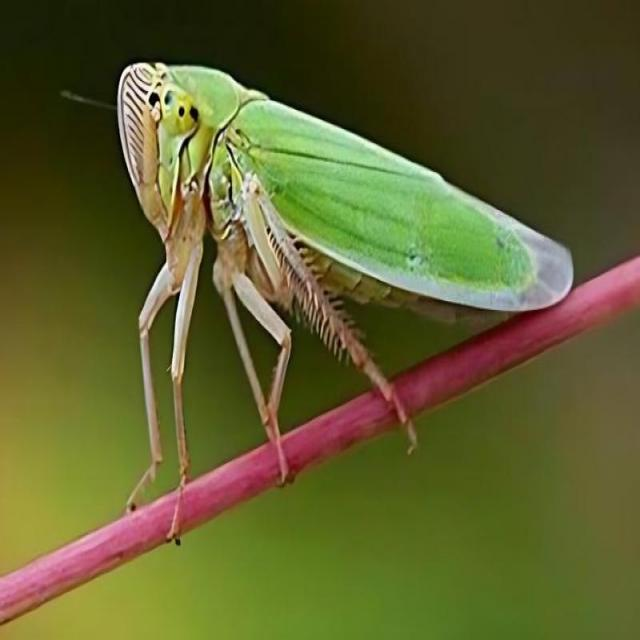Yechan: (104, 56, 576, 404)
